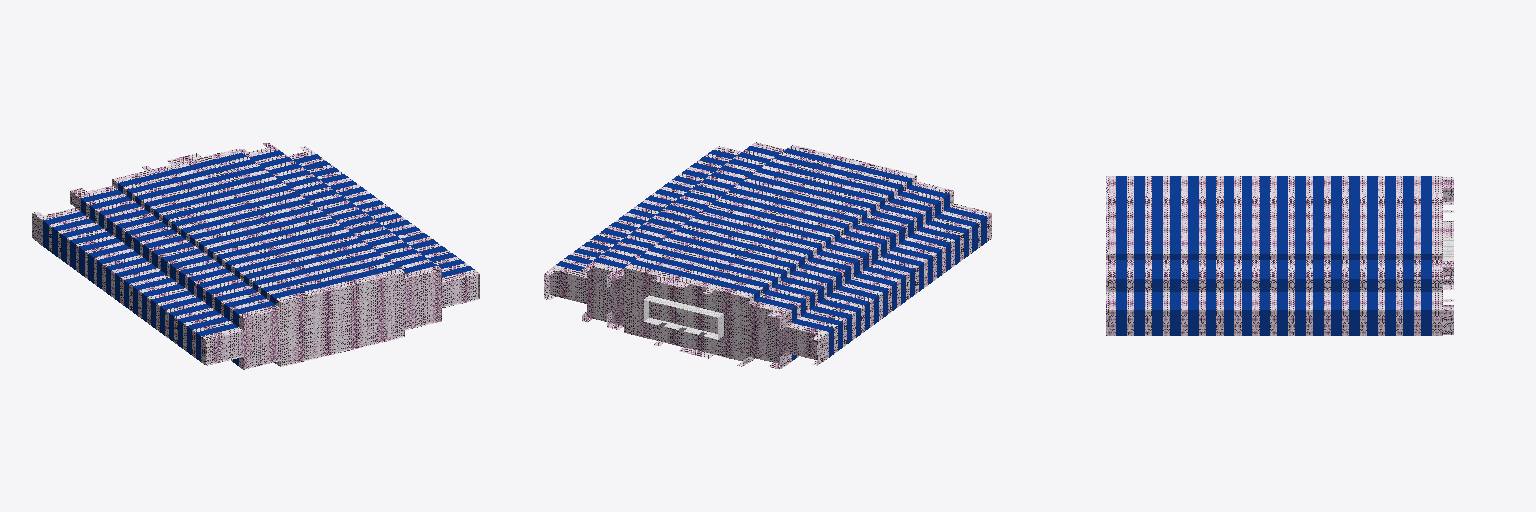
The picture shows the model from 3 angles: view 1: azimuth 30°, elevation 25°; view 2: azimuth 150°, elevation 25°; view 3: azimuth 270°, elevation 25°; orthographic projection.
Parts seen in each view (by area): view 1: glaz_01, wall_01, wall_03, wall_02; view 2: glaz_01, wall_01, wall_03, wall_02, wall_2_01; view 3: glaz_01, wall_01, wall_02, wall_03.
Boxes of the visible parts, x1,y1,x2,y2 form: glaz_01: [43, 150, 474, 365]; wall_01: [49, 154, 477, 368]; wall_03: [32, 143, 479, 369]; wall_02: [38, 146, 315, 245]; glaz_01: [556, 146, 986, 360]; wall_01: [562, 143, 989, 357]; wall_03: [544, 142, 991, 368]; wall_02: [550, 261, 828, 365]; wall_2_01: [644, 295, 723, 339]; glaz_01: [1116, 176, 1431, 335]; wall_01: [1109, 176, 1420, 335]; wall_02: [1432, 176, 1442, 335]; wall_03: [1106, 176, 1453, 335].
Size of the model in its own units: 1737 by 395 by 1916.
5 materials, 2 textured.